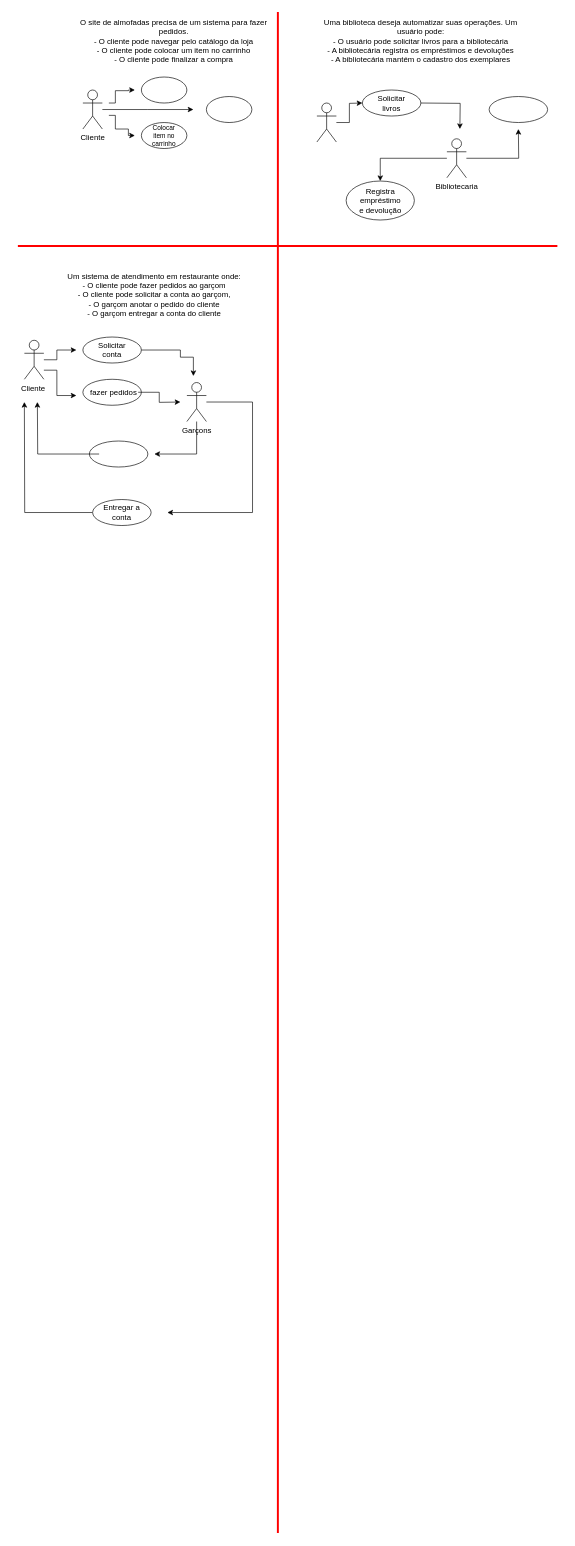
Some shapes in this 575 by 1546 pixel diagram are drawn without their labels. Each missing label, with the box of its shape:
Anotar pedido: (89, 440, 148, 467)
Finalizar a compra: (206, 96, 252, 123)
Manter o cadastro: (488, 96, 548, 123)
Navegar pelo catalago: (141, 76, 187, 103)
Usuário: (316, 102, 336, 142)
